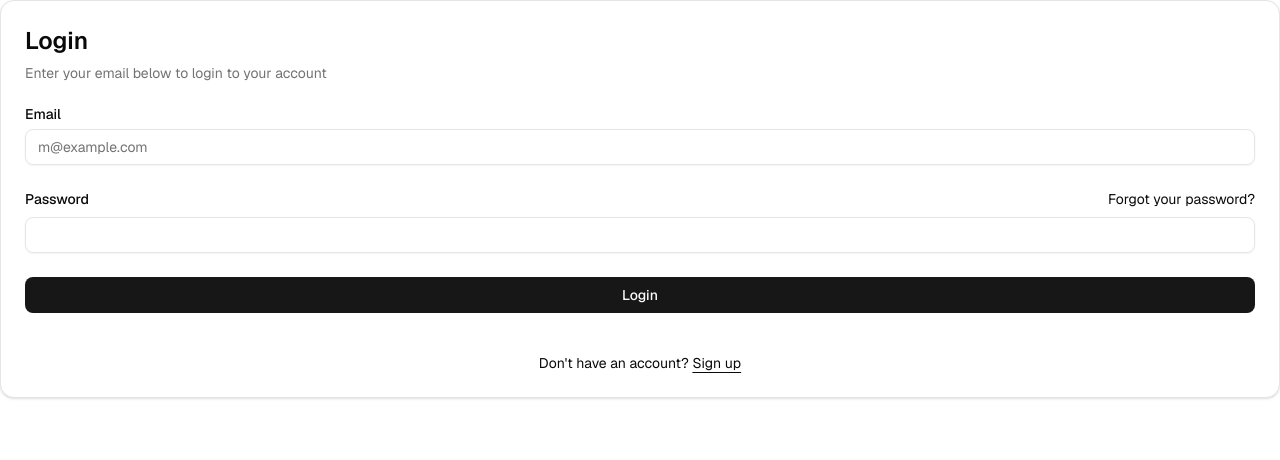
Scenario: LoginForm › renders error message on failed login
This screenshot has width=1280, height=460.
In the field labelled "Email": (640, 147) [25, 129, 1255, 165], type "user@example.com"
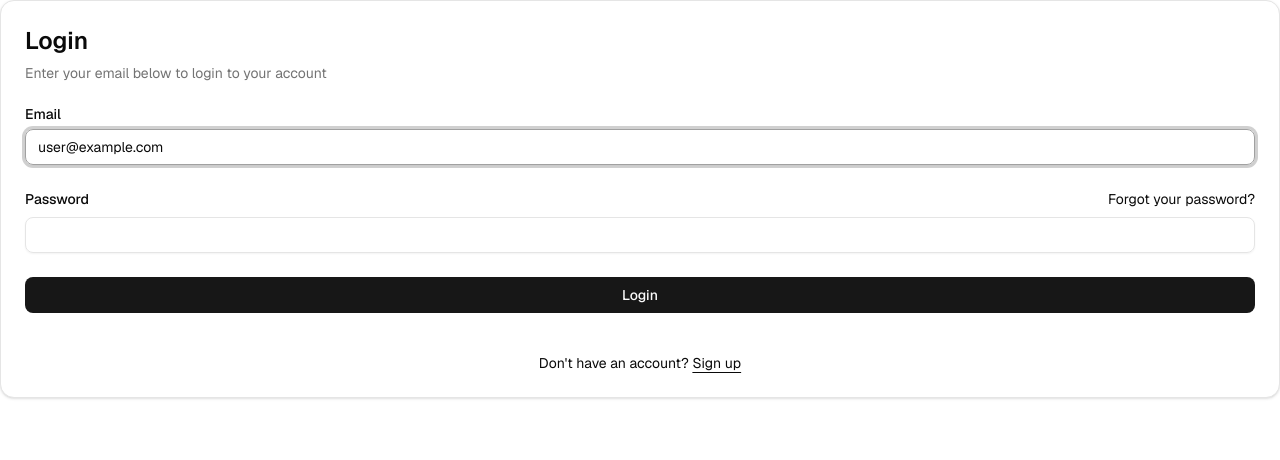
In the password field labelled "Password": (640, 235) [25, 217, 1255, 253], type "password"
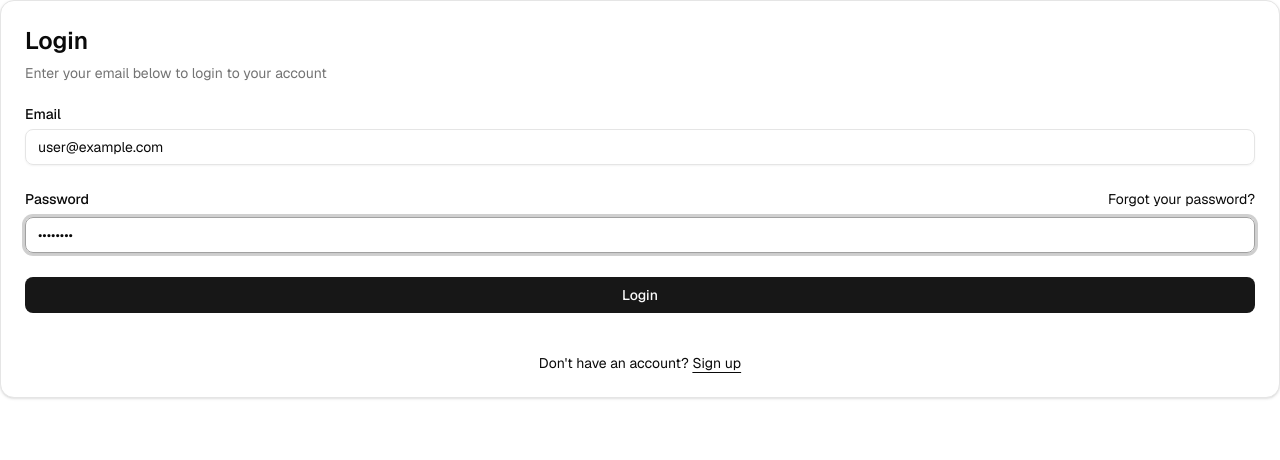
Click the button "Login": click(640, 295) [25, 277, 1255, 313]
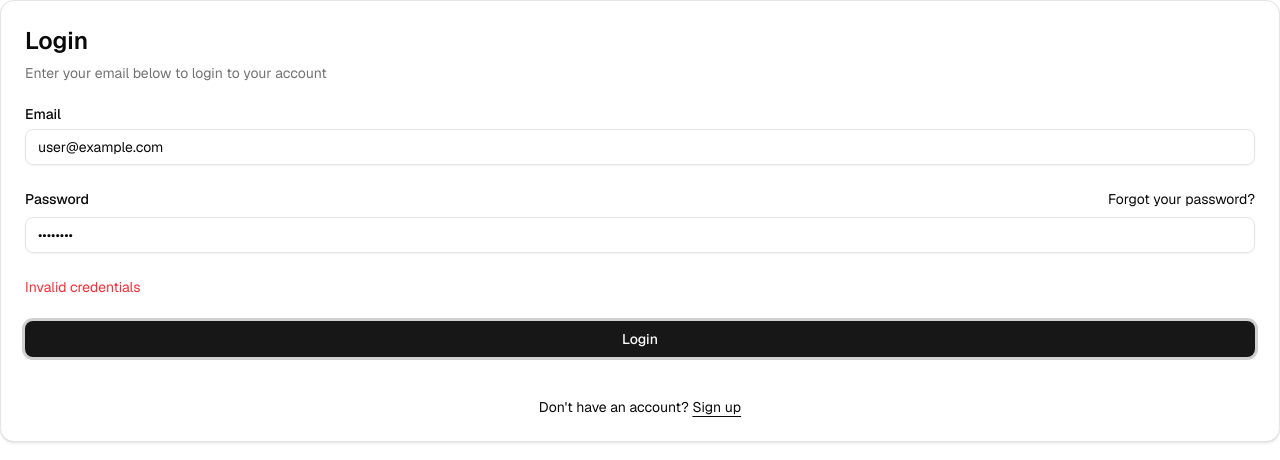
Now the text "Invalid credentials" is shown, box [25, 278, 140, 296]
